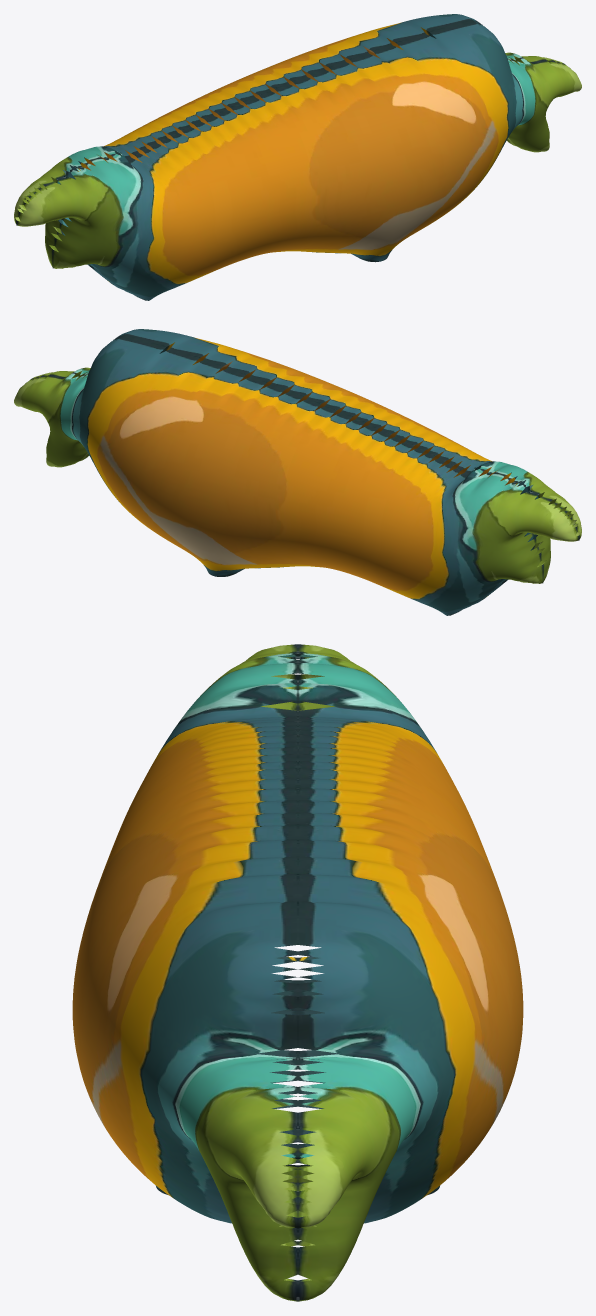
Rendered from amber_sign.glb.
3 views of the same model, one above another, from view 1: azimuth 30°, elevation 25°; view 2: azimuth 150°, elevation 25°; view 3: azimuth 270°, elevation 25° (orthographic). The views are drawn at different scales.
Parts seen in each view (by area): view 1: amber_sign; view 2: amber_sign; view 3: amber_sign.
Part boxes in pixels (left/top/right/bottom): amber_sign: left=14, top=14, right=581, bottom=300; amber_sign: left=14, top=329, right=581, bottom=615; amber_sign: left=72, top=644, right=523, bottom=1301.
Bounding box in the file's own units: 0.9889 × 0.308 × 0.343.
1 material, 1 textured.
